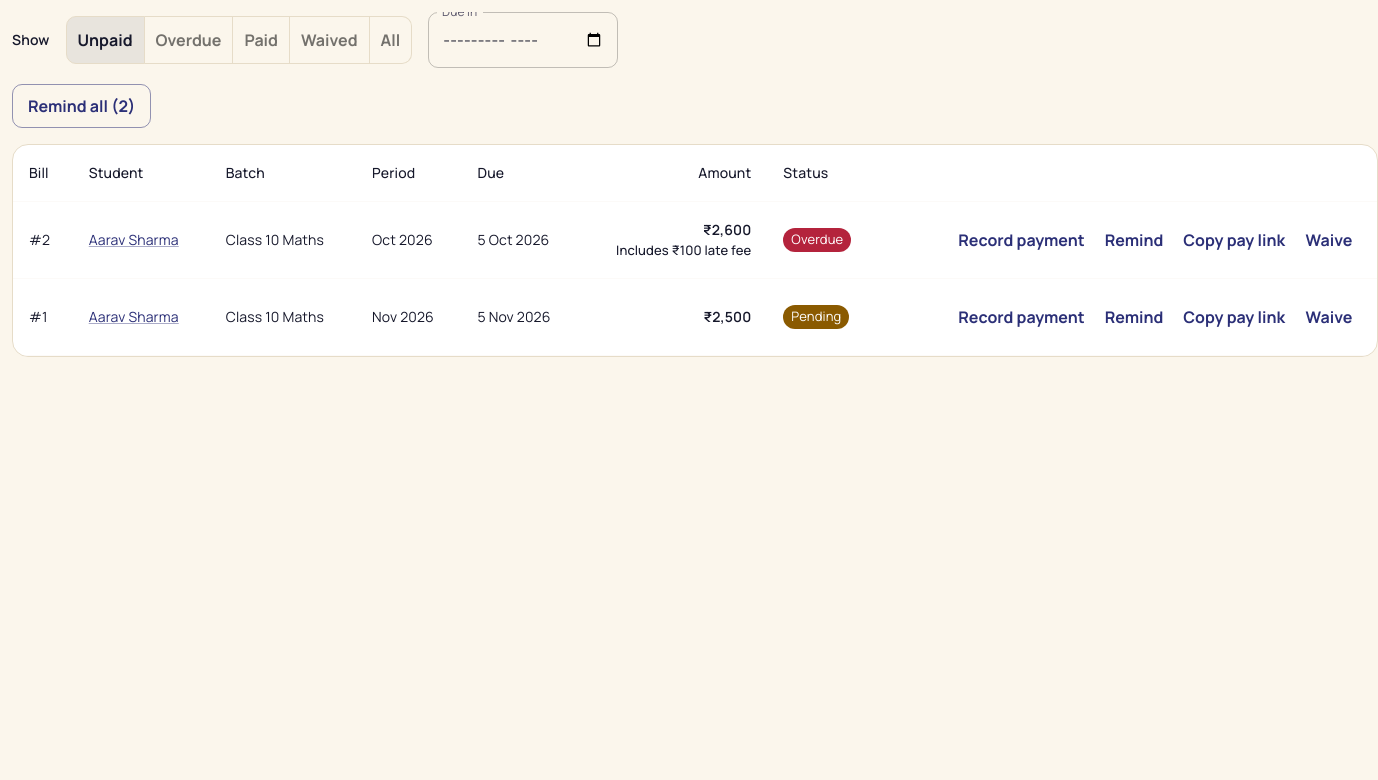
InvoiceList › copies an unpaid bill's pay link, to send to the parent
Expected: the table is shown, [13,145,1377,356]
Click the button with aria-label "Copy pay link for bill #1" at (1234, 317), box [1175,295,1293,339]
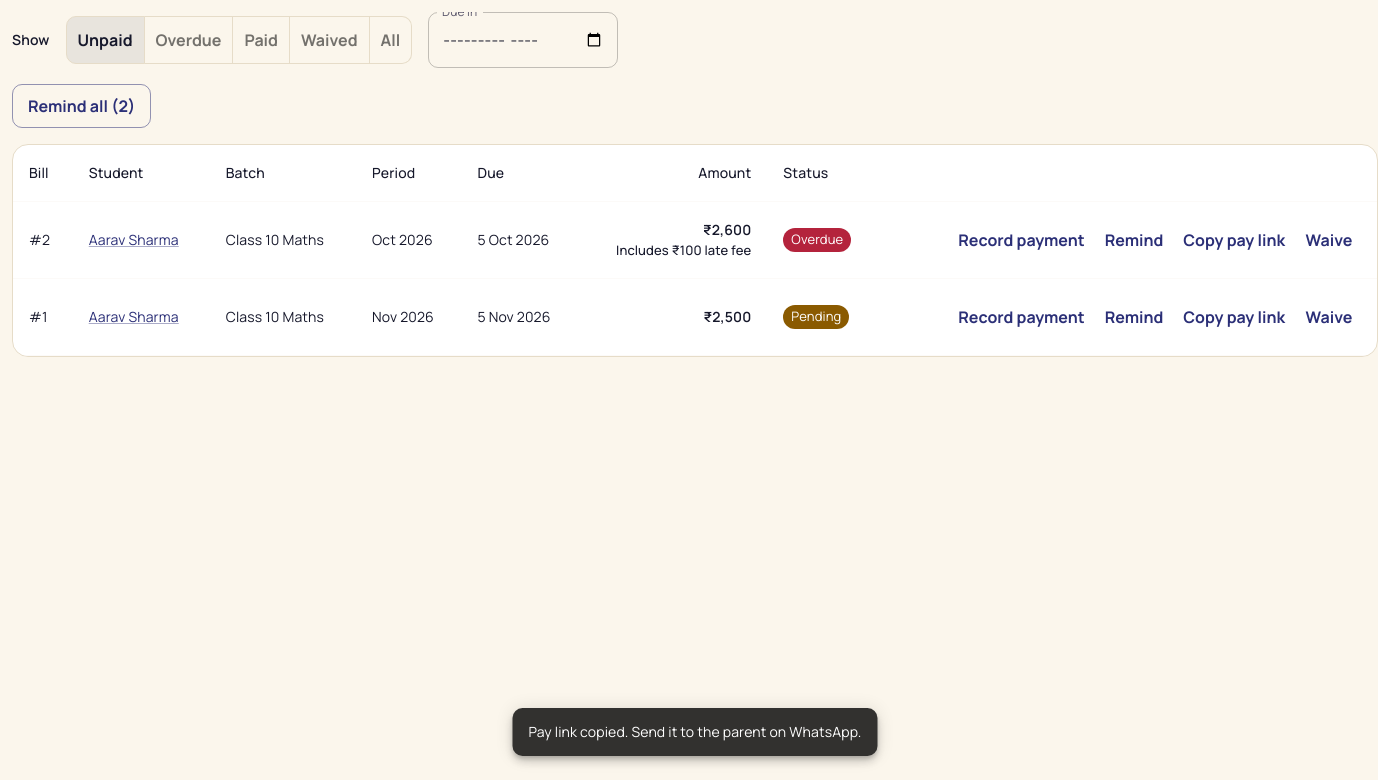
Result: the text "Pay link copied. Send it to the parent on WhatsApp." is shown at [528,722,862,741]
